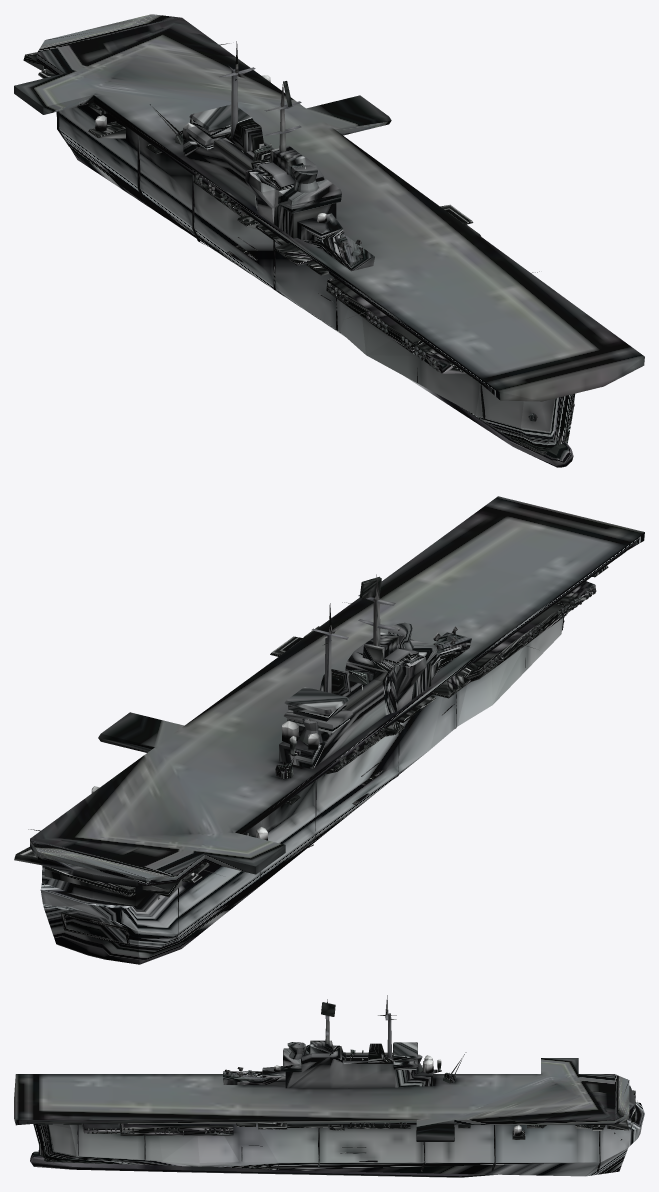
3 renders of one model, top to bottom at view 1: azimuth 30°, elevation 25°; view 2: azimuth 150°, elevation 25°; view 3: azimuth 270°, elevation 25°, orthographic. The views are drawn at different scales.
Parts seen in each view (by area): view 1: Object_2; view 2: Object_2; view 3: Object_2.
Part boxes in pixels (left/top/right/bottom): Object_2: left=14, top=14, right=644, bottom=467; Object_2: left=14, top=496, right=644, bottom=964; Object_2: left=14, top=995, right=644, bottom=1177.
Bounding box in the file's own units: 2.33 × 2.19 × 7.82.
Materials: 1 (1 with a texture image).
